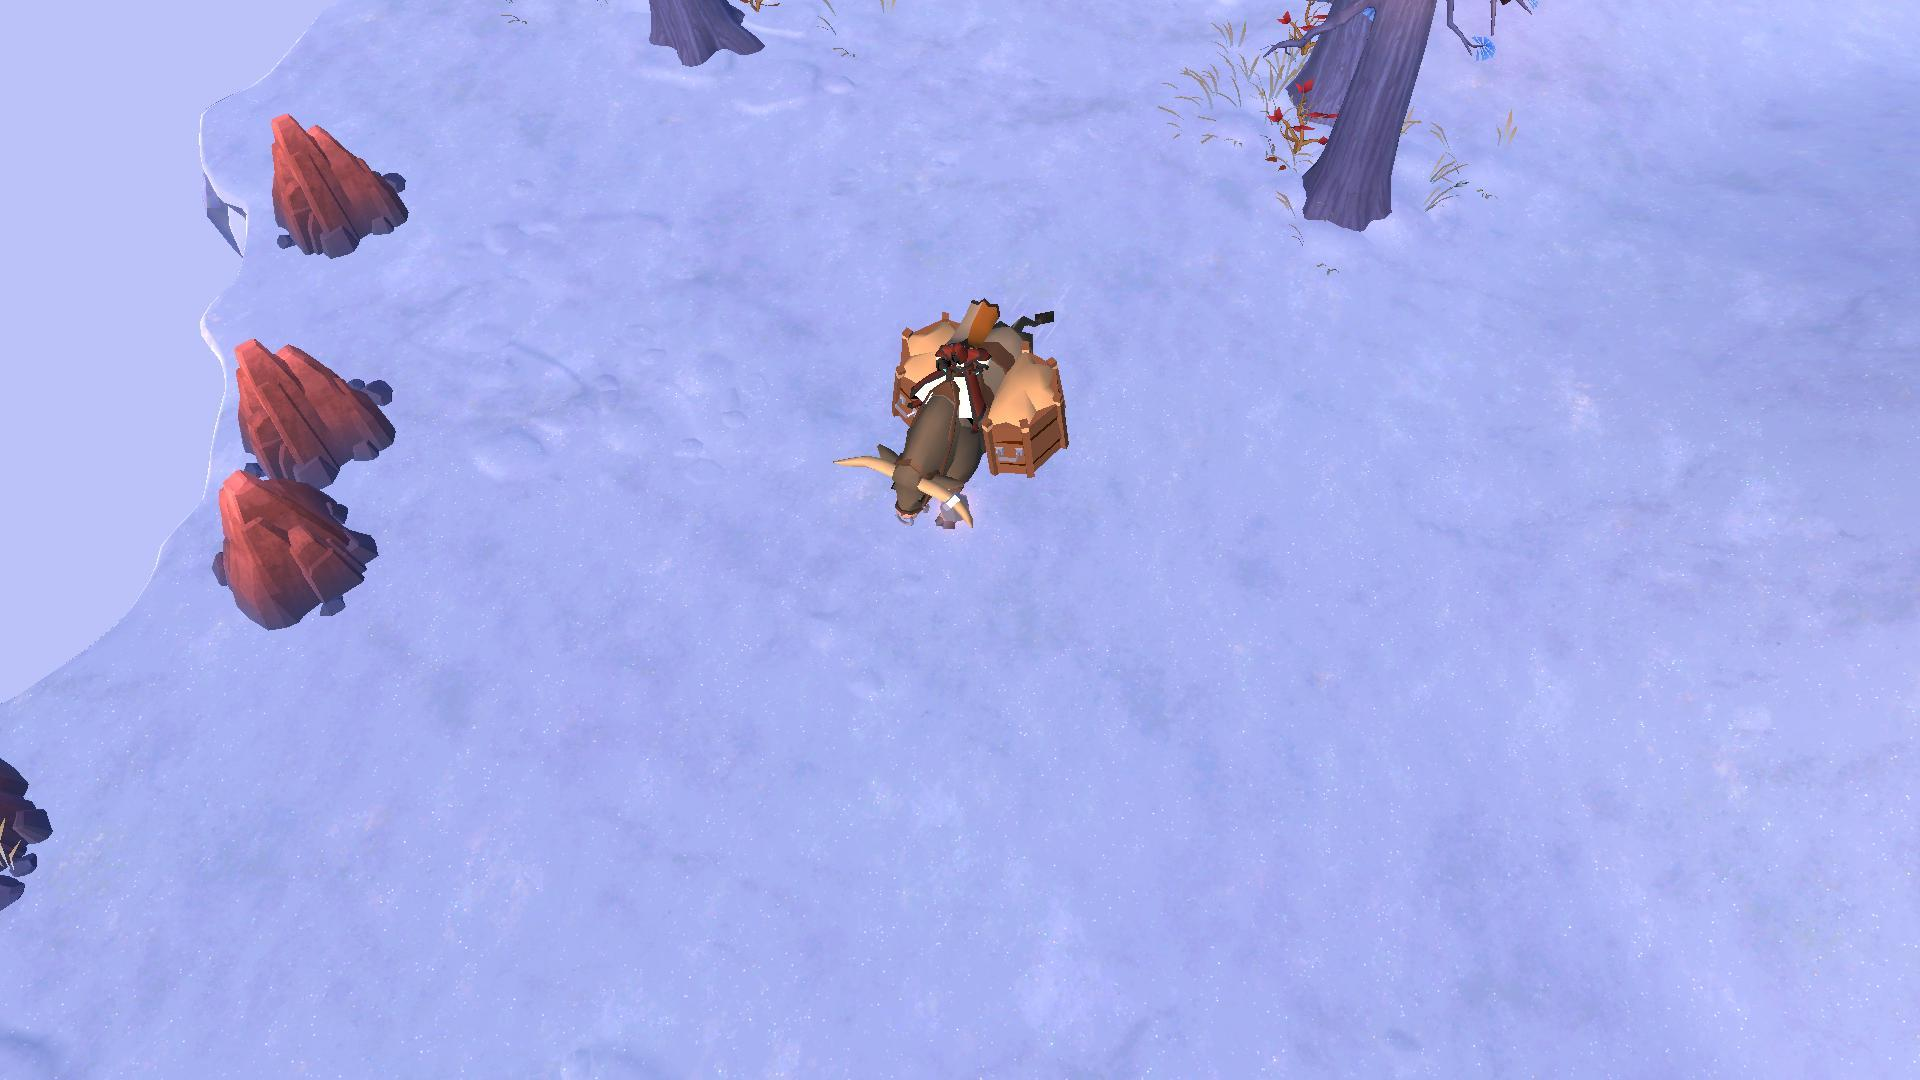rock_t5: (228, 326, 410, 489), (215, 465, 377, 636), (252, 113, 414, 256)
